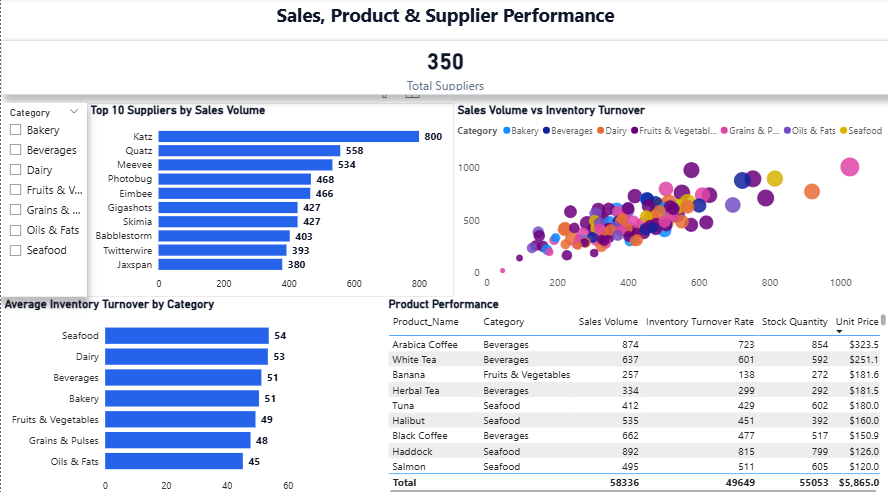

Layout of this report page (visuals, bound fields, positions):
{"tool":"powerbi","page":{"name":"Sales. Product & Supplier Performance","canvas":[1280,720],"ordinal":2},"visuals":[{"type":"scatterChart","title":"Sales Volume vs Inventory Turnover","fields":{"X":["Sum(Grocery_Inventory_and_Sales_Dataset.Inventory_Turnover_Rate)"],"Y":["Sum(Grocery_Inventory_and_Sales_Dataset.Sales_Volume)"],"Series":["Grocery_Inventory_and_Sales_Dataset.Category"],"Size":["Sum(Grocery_Inventory_and_Sales_Dataset.Stock_Quantity)"],"Category":["Grocery_Inventory_and_Sales_Dataset.Product_Name"]},"box":[616.5,151.2,663.5,278.8],"z":0},{"type":"clusteredBarChart","title":"Average Inventory Turnover by Category","fields":{"Category":["Grocery_Inventory_and_Sales_Dataset.Category"],"Y":["Sum(Grocery_Inventory_and_Sales_Dataset.Inventory_Turnover_Rate)"]},"box":[0,450.2,552.7,270.4],"z":1000},{"type":"tableEx","title":"Product Performance","fields":{"Values":["Grocery_Inventory_and_Sales_Dataset.Product_Name","Grocery_Inventory_and_Sales_Dataset.Category","Sum(Grocery_Inventory_and_Sales_Dataset.Sales_Volume)","Sum(Grocery_Inventory_and_Sales_Dataset.Inventory_Turnover_Rate)","Sum(Grocery_Inventory_and_Sales_Dataset.Stock_Quantity)","Sum(Grocery_Inventory_and_Sales_Dataset.Unit_Price)"]},"box":[552.7,430,727.3,290.6],"z":2000},{"type":"clusteredBarChart","title":"Top 10 Suppliers by Sales Volume","fields":{"Category":["Grocery_Inventory_and_Sales_Dataset.Supplier_Name"],"Y":["Sum(Grocery_Inventory_and_Sales_Dataset.Sales_Volume)"]},"box":[0,151.2,616.5,299],"z":2001},{"type":"card","fields":{"Values":["Grocery_Inventory_and_Sales_Dataset.Total Suppliers"]},"box":[0,60.5,1280,79],"z":2002},{"type":"textbox","box":[0,0,1280,48.7],"z":2003}]}

Visuals, with their boxes in screenshot pixels (x1, y1, x2, y2), scaled from the page's 1280x720 canvas onto the 888x492 screenshot:
"Sales Volume vs Inventory Turnover" scatterChart: select_region(428, 103, 887, 294)
"Average Inventory Turnover by Category" clusteredBarChart: select_region(0, 308, 383, 491)
"Product Performance" tableEx: select_region(383, 294, 887, 491)
"Top 10 Suppliers by Sales Volume" clusteredBarChart: select_region(0, 103, 428, 308)
card - Grocery_Inventory_and_Sales_Dataset.Total Suppliers: select_region(0, 41, 887, 95)
textbox: select_region(0, 0, 887, 33)
